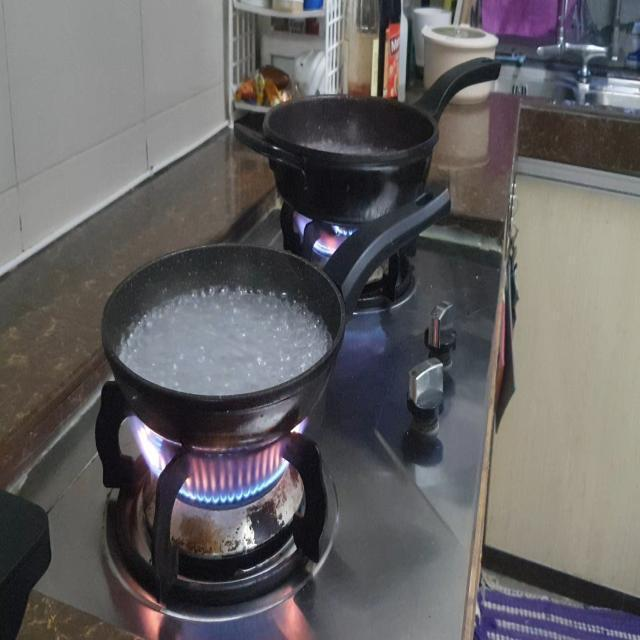smoke: (123, 406, 307, 509), (282, 207, 351, 255)
